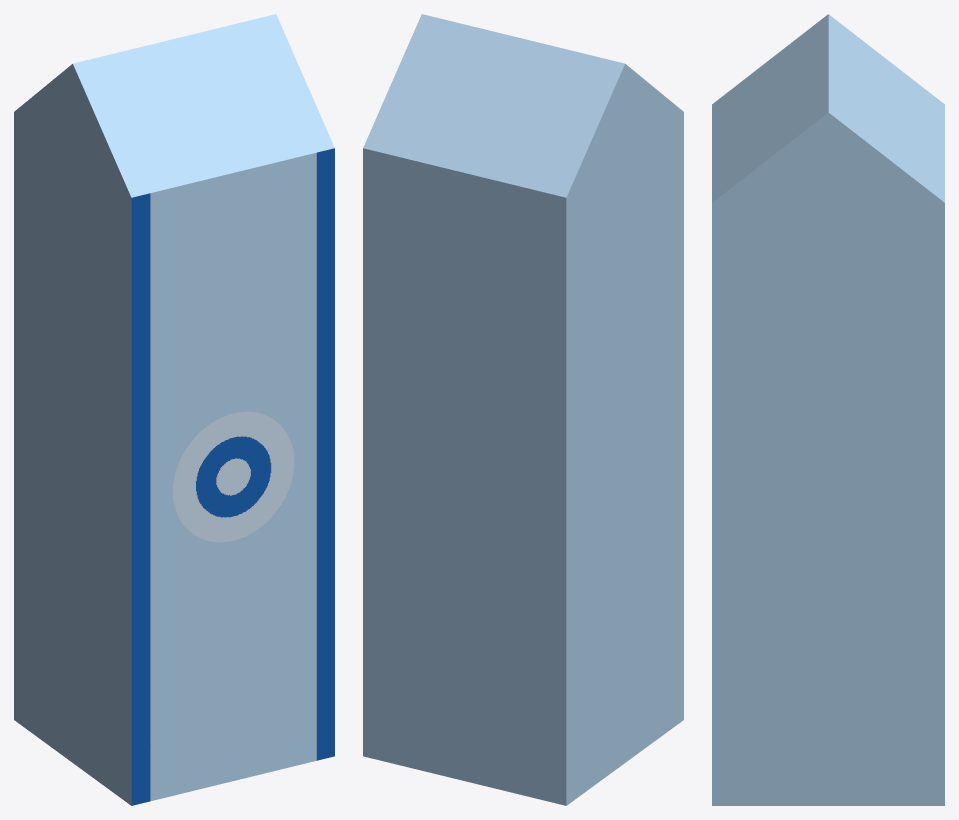
Rendered from Skimmed_Milk.fbx.
3 views of the same model, side by side, from view 1: azimuth 30°, elevation 25°; view 2: azimuth 150°, elevation 25°; view 3: azimuth 270°, elevation 25° (orthographic).
Parts seen in each view (by area): view 1: Skimmed_Milk; view 2: Skimmed_Milk; view 3: Skimmed_Milk.
Boxes of the visible parts, <box> form: Skimmed_Milk: <box>14,14,334,805</box>; Skimmed_Milk: <box>363,14,683,805</box>; Skimmed_Milk: <box>712,14,944,805</box>.
Size of the model in its own units: 0.07 by 0.23 by 0.07.
Materials: 2 (1 with a texture image).
